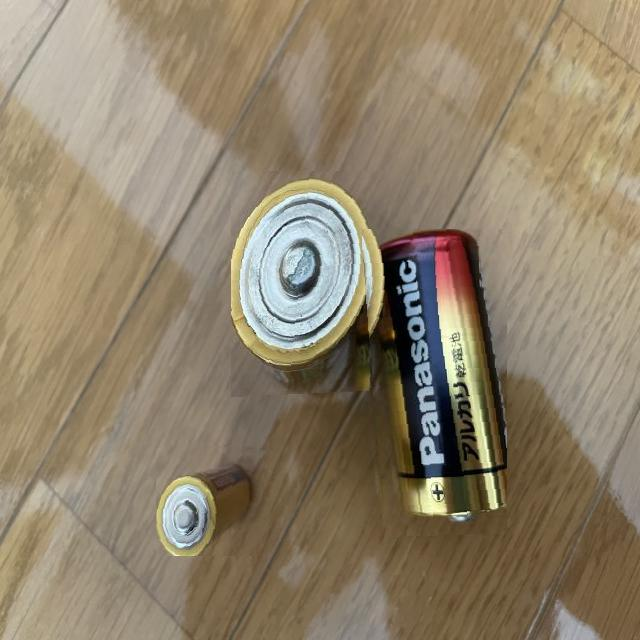battery: (362, 230, 508, 538), (231, 171, 392, 398), (156, 440, 266, 556)
